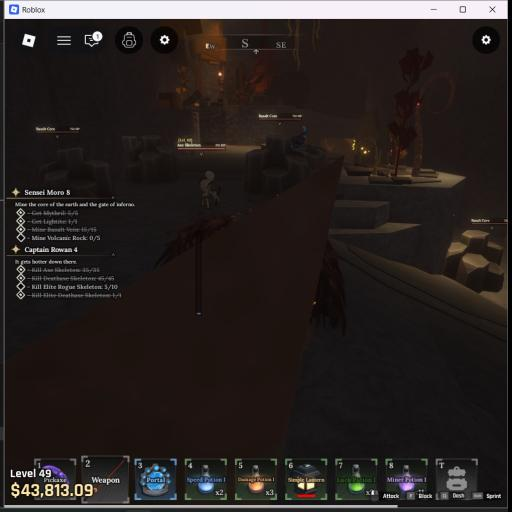player: (155, 215, 234, 266), (312, 240, 346, 335)
rock: (245, 136, 310, 196), (39, 147, 116, 197), (443, 230, 504, 292), (122, 135, 181, 183), (295, 143, 328, 173)
